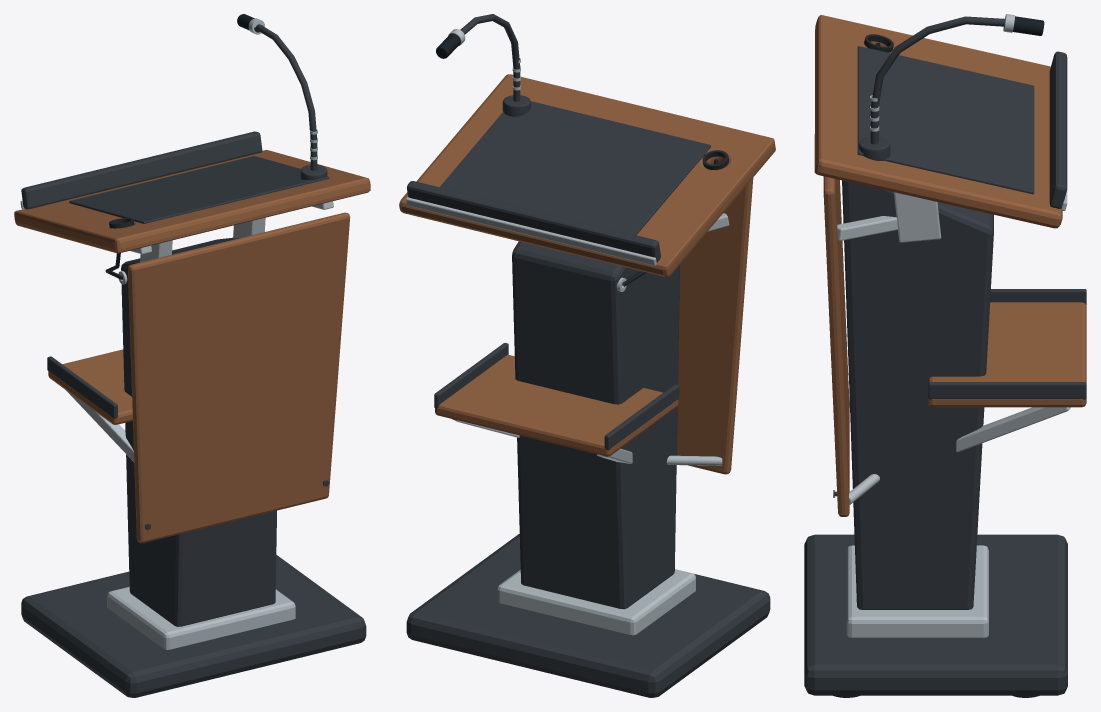
File: city-conference-lectern.glb
3 renders of one model, left to right at view 1: azimuth 30°, elevation 25°; view 2: azimuth 150°, elevation 25°; view 3: azimuth 270°, elevation 25°, orthographic. The views are drawn at different scales.
Parts seen in each view (by area): view 1: Assembly | Warm walnut-color solid lectern finish, Assembly | Graphite satin equipment enamel, Assembly | Brushed stainless hardware; view 2: Assembly | Graphite satin equipment enamel, Assembly | Warm walnut-color solid lectern finish, Assembly | Brushed stainless hardware; view 3: Assembly | Graphite satin equipment enamel, Assembly | Warm walnut-color solid lectern finish, Assembly | Brushed stainless hardware, Assembly | Dark rubber pads grips and screen border, Assembly | Charcoal matte recessed interiors.
Boxes of the visible parts, <box> form: Assembly | Warm walnut-color solid lectern finish: <box>14,150,370,543</box>; Assembly | Graphite satin equipment enamel: <box>21,24,366,697</box>; Assembly | Brushed stainless hardware: <box>20,18,333,649</box>; Assembly | Graphite satin equipment enamel: <box>406,14,770,697</box>; Assembly | Warm walnut-color solid lectern finish: <box>399,74,775,474</box>; Assembly | Brushed stainless hardware: <box>406,29,729,635</box>; Assembly | Graphite satin equipment enamel: <box>804,16,1086,695</box>; Assembly | Warm walnut-color solid lectern finish: <box>814,15,1086,516</box>; Assembly | Brushed stainless hardware: <box>837,14,1070,637</box>; Assembly | Dark rubber pads grips and screen border: <box>833,34,1039,697</box>; Assembly | Charcoal matte recessed interiors: <box>1003,16,1044,35</box>.
Size of the model in its own units: 0.66 by 1.41 by 0.535.
